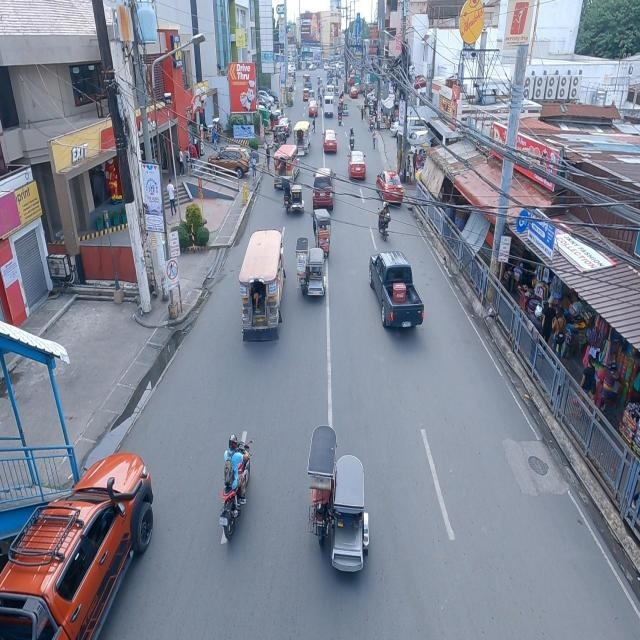Truck: (371, 248, 426, 338)
